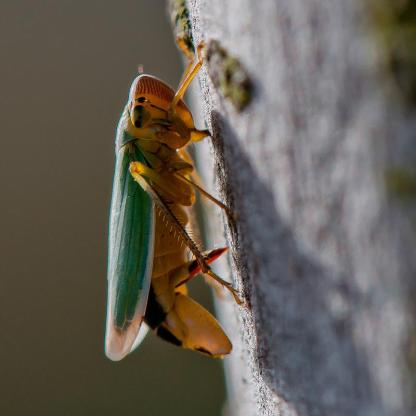Green-Leafhopper: (90, 42, 244, 367)
